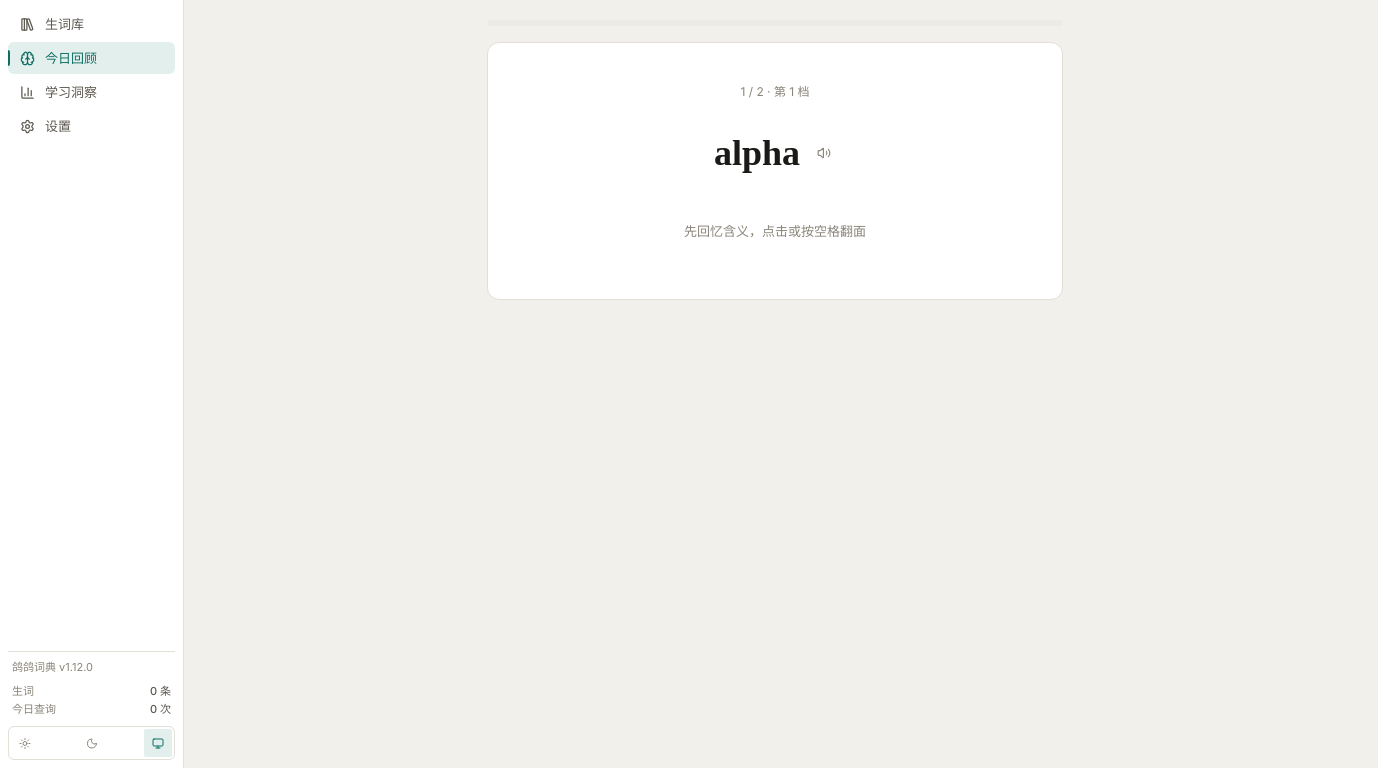
the review page › turns the card over by a click and offers the three answers, 认识 first and 不认识 last
The image size is (1378, 768).
Click the button named "翻面": (775,171) [488,43,1062,299]
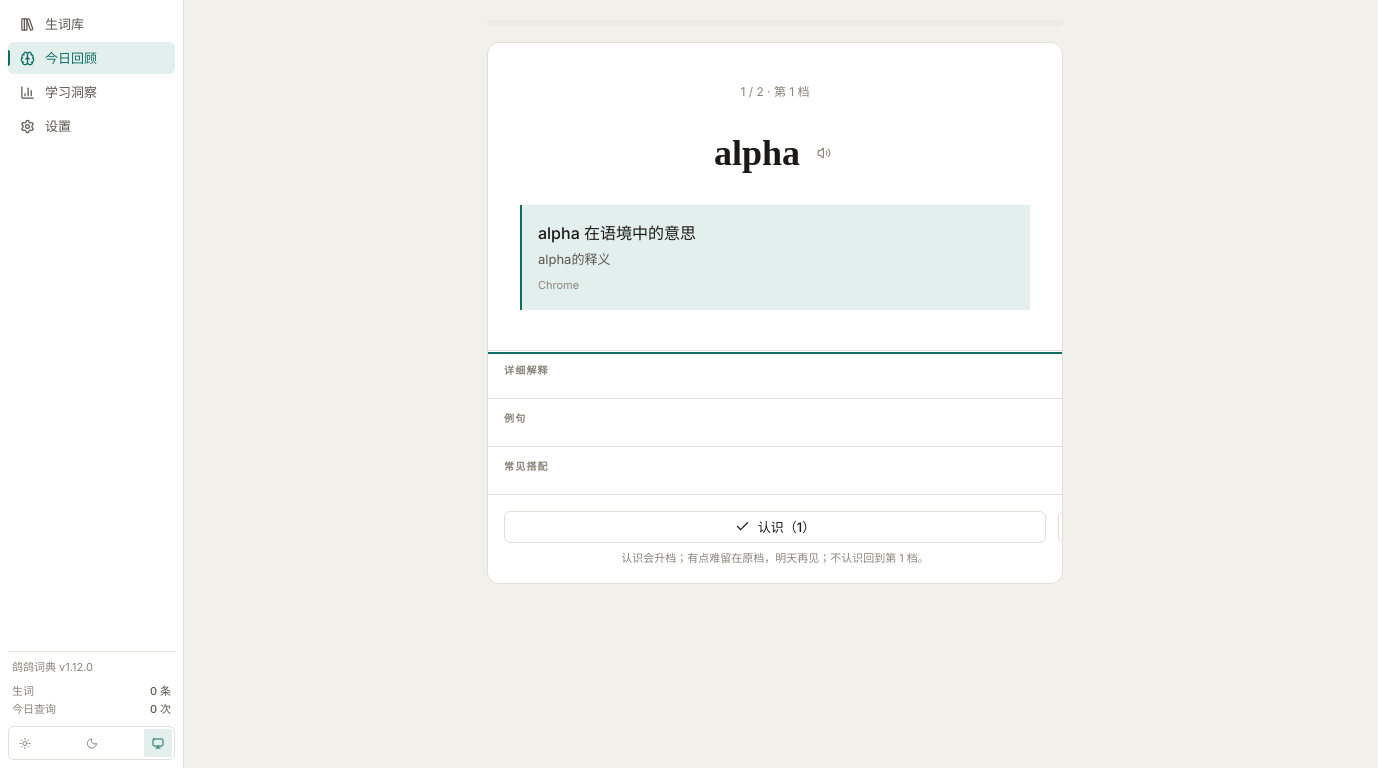
Check: the text "alpha 在语境中的意思" is shown, box [538,223,696,243]
Check: the text "先回忆含义，点击或按空格翻面" is gone
